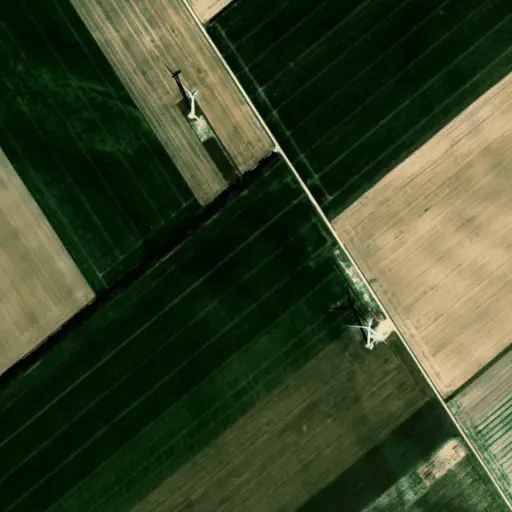wt: (330, 283, 391, 358), (154, 57, 212, 133)
